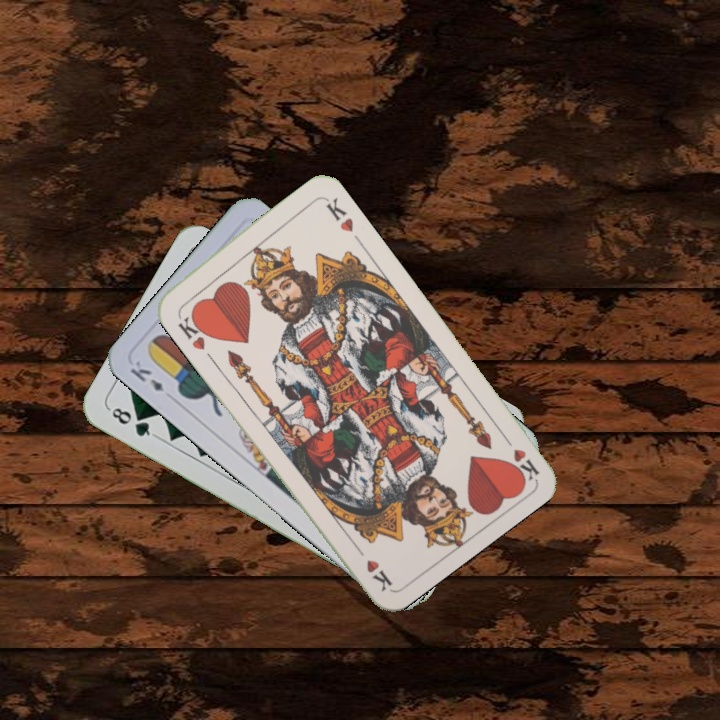EK: (126, 356, 167, 395)
G8: (105, 403, 159, 440)
HK: (497, 428, 542, 484), (173, 308, 213, 353)
